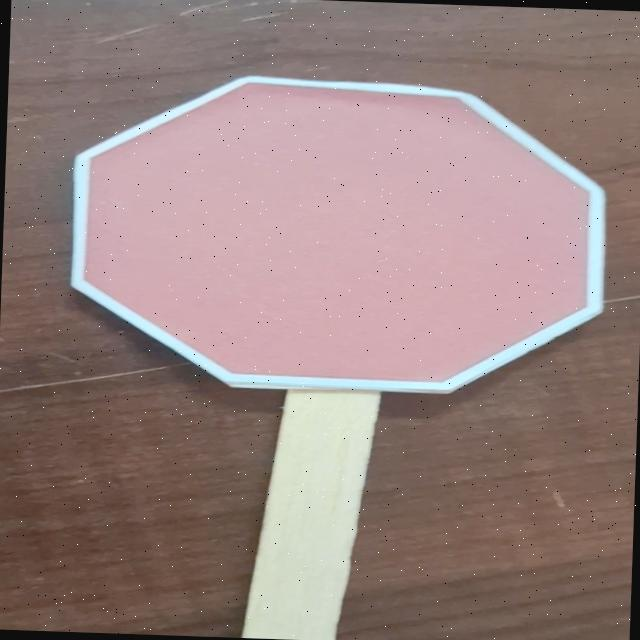Stop: (56, 59, 618, 402)
